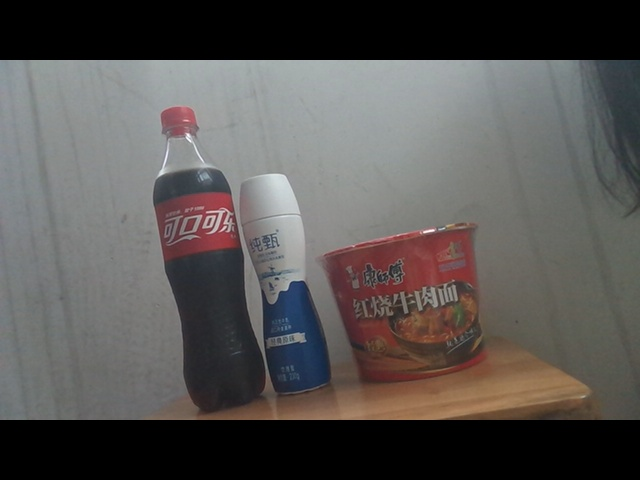cola: (152, 107, 266, 409)
kangshifu: (317, 220, 488, 377)
yogurt: (240, 173, 334, 396)
